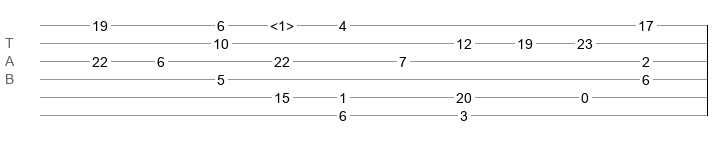0: (581, 90, 589, 100)
1: (339, 90, 347, 100)
10: (213, 36, 229, 46)
12: (456, 36, 472, 46)
15: (274, 90, 290, 100)
17: (638, 18, 654, 28)
19: (92, 18, 108, 28), (517, 36, 533, 46)
2: (642, 54, 650, 64)
20: (456, 90, 472, 100)
22: (92, 54, 108, 64), (274, 54, 290, 64)
23: (577, 36, 593, 46)
3: (460, 108, 468, 118)
4: (339, 18, 347, 28)
5: (217, 72, 225, 82)
6: (157, 54, 165, 64), (217, 18, 225, 28), (339, 108, 347, 118), (642, 72, 650, 82)
7: (399, 54, 407, 64)
harmonic: (270, 18, 294, 28)
